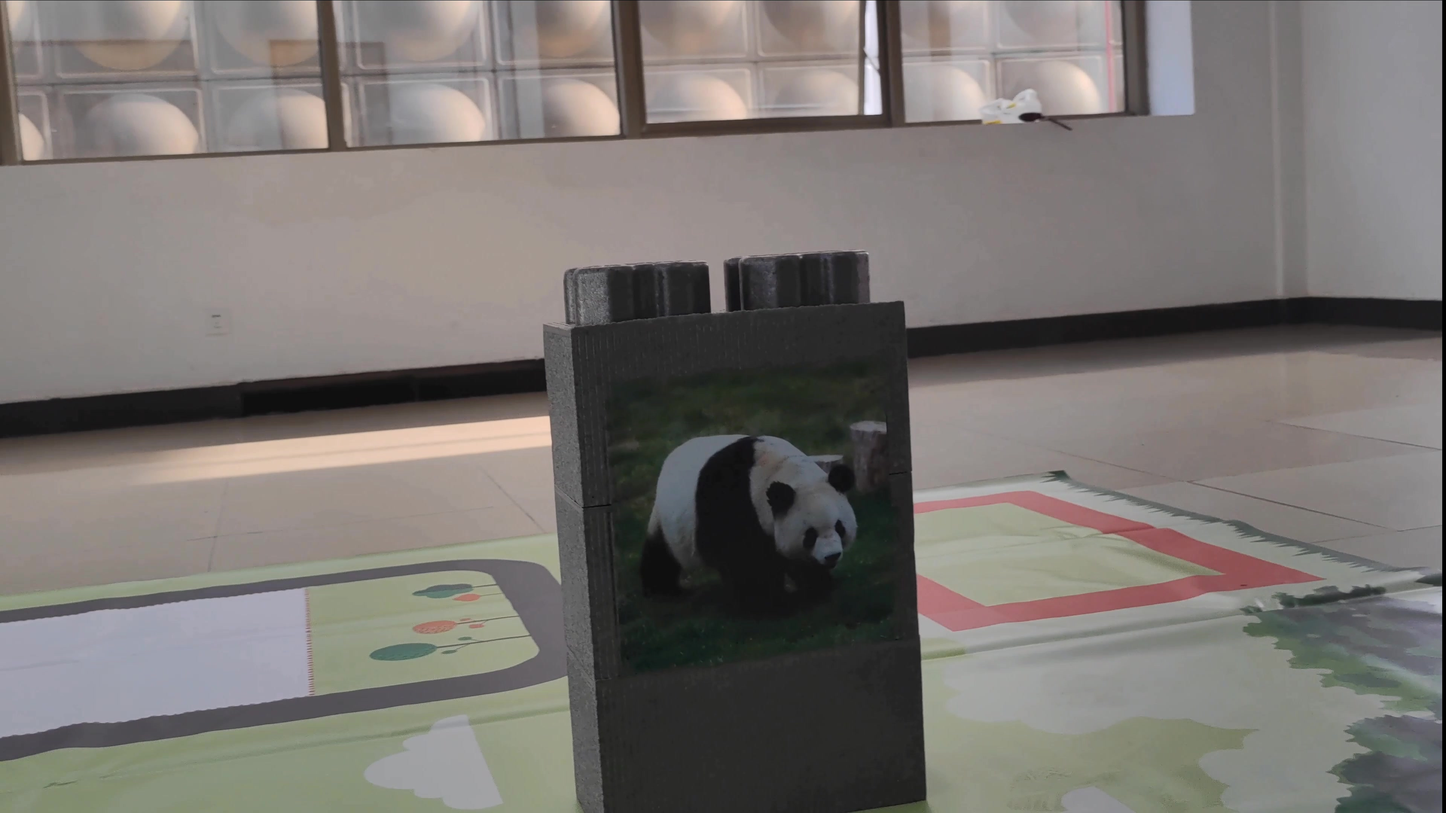panda: (620, 406, 876, 626)
